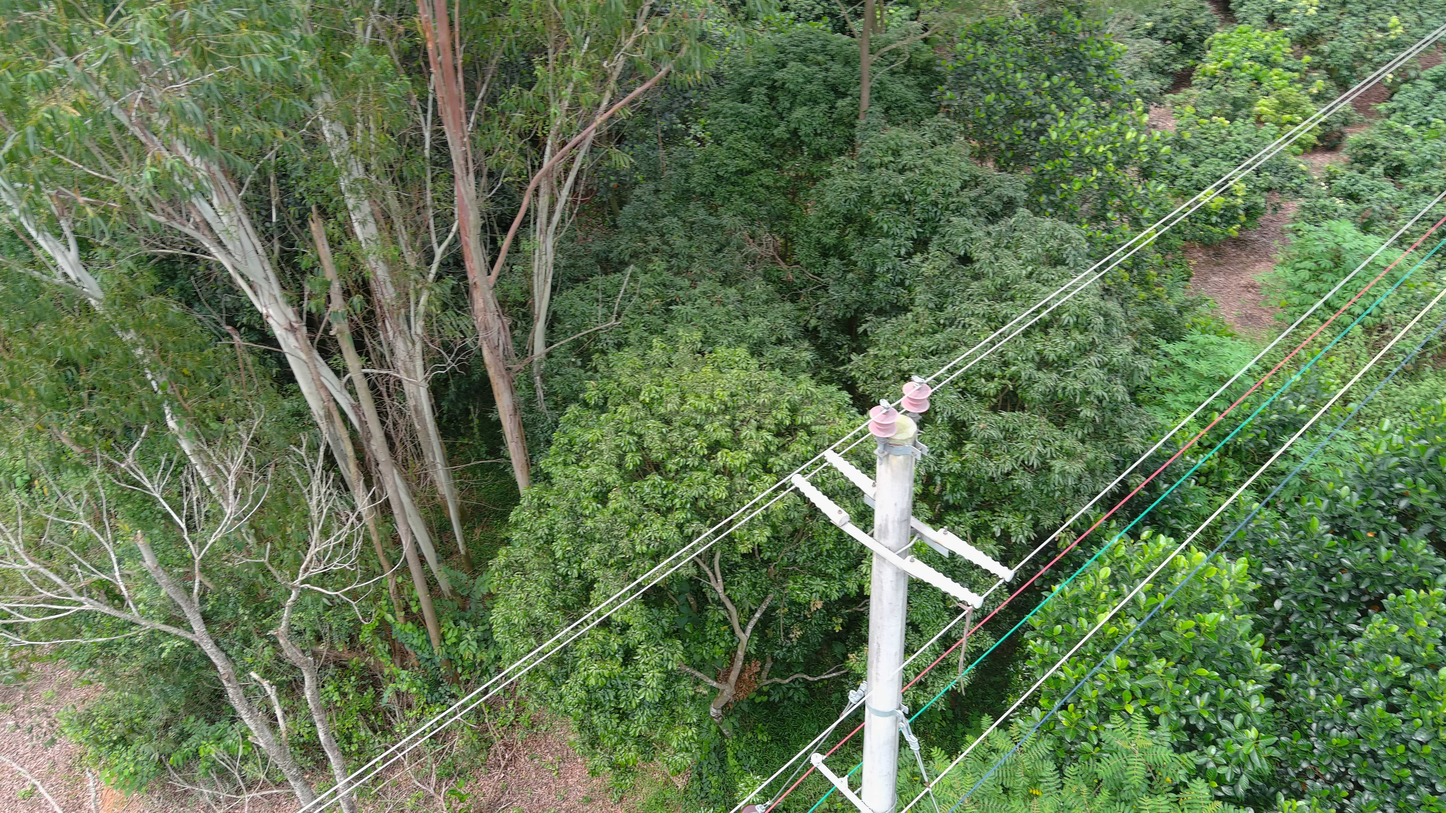异物: (947, 593, 979, 696)
